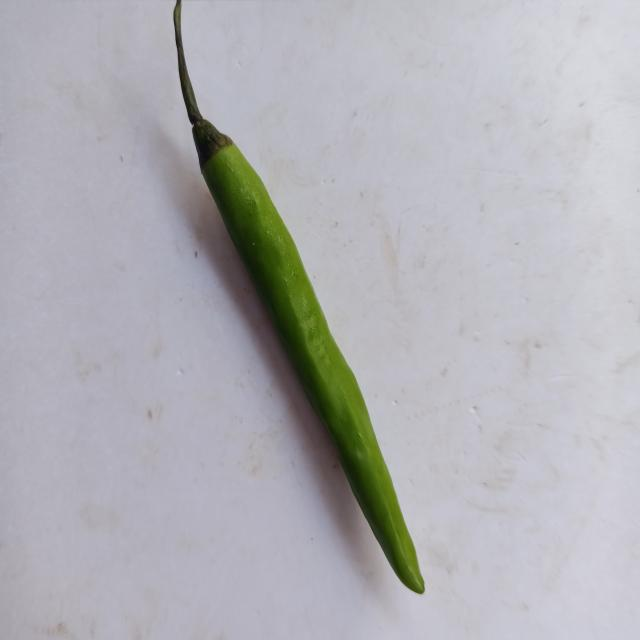Green Chilly: (173, 0, 424, 594)
